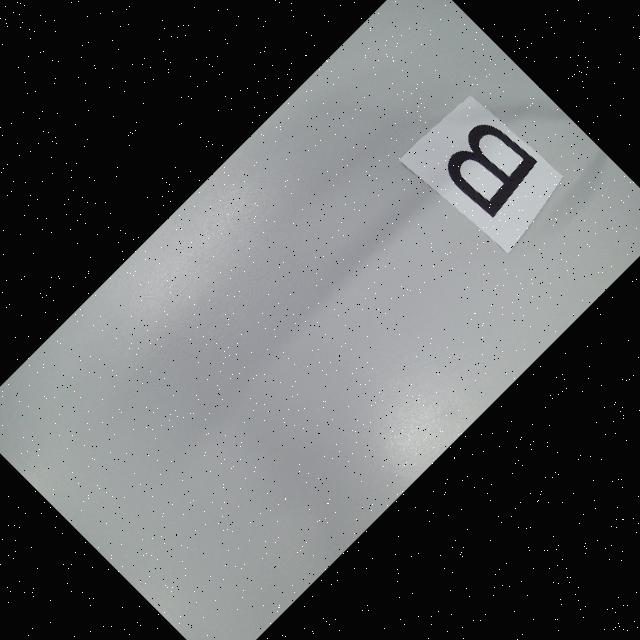FAKE: (434, 110, 544, 220)
